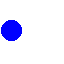circle: (1, 20, 21, 40)
